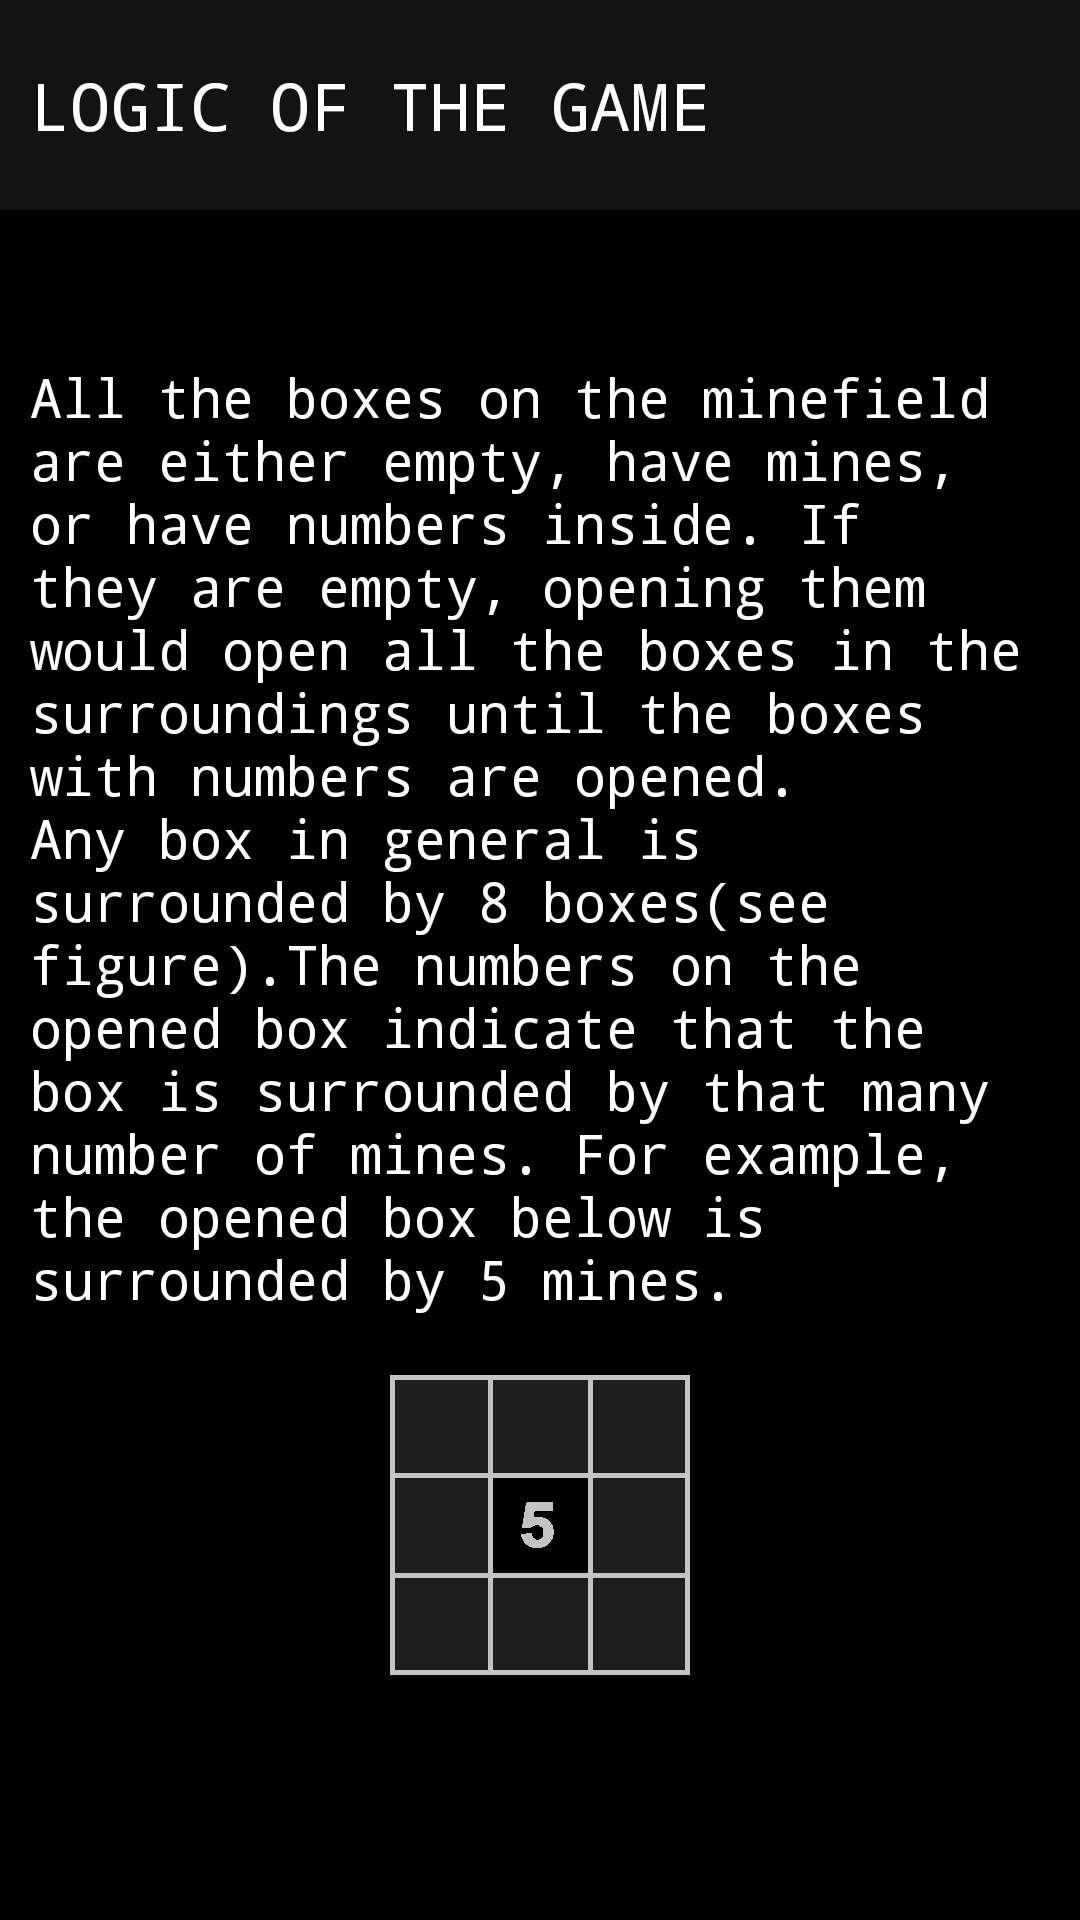

Where icons sit on this 1080px x 1920px app screen, as (left=x1, top=y1, right=x2, bottom=y2):
darkexamplehtp: (left=390, top=1375, right=690, bottom=1675)
